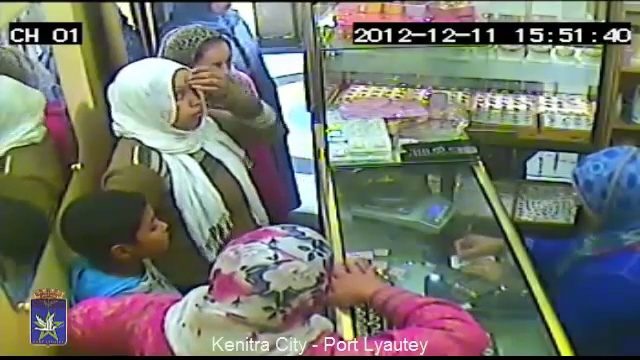face: (148, 64, 201, 130), (123, 198, 176, 253)
